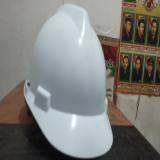Helmet: (23, 4, 114, 158)
